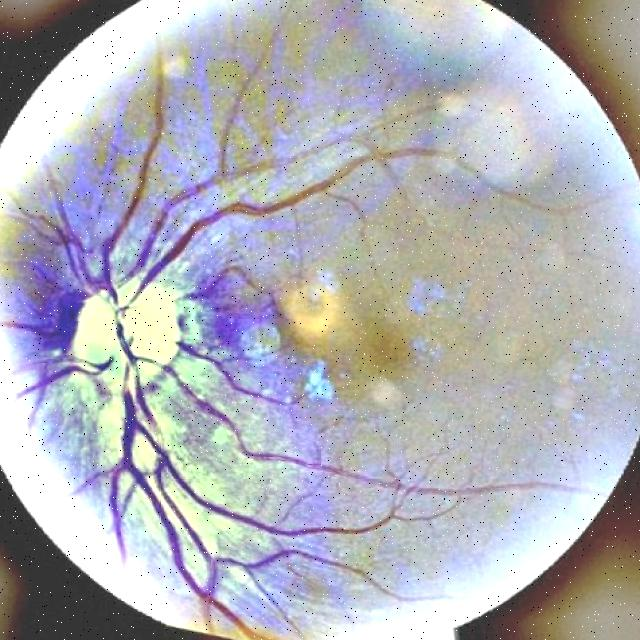Macula: (277, 265, 372, 357)
Nerves: (121, 133, 563, 305), (107, 364, 400, 619), (33, 51, 180, 304)
Optic Disk: (65, 272, 192, 394)
